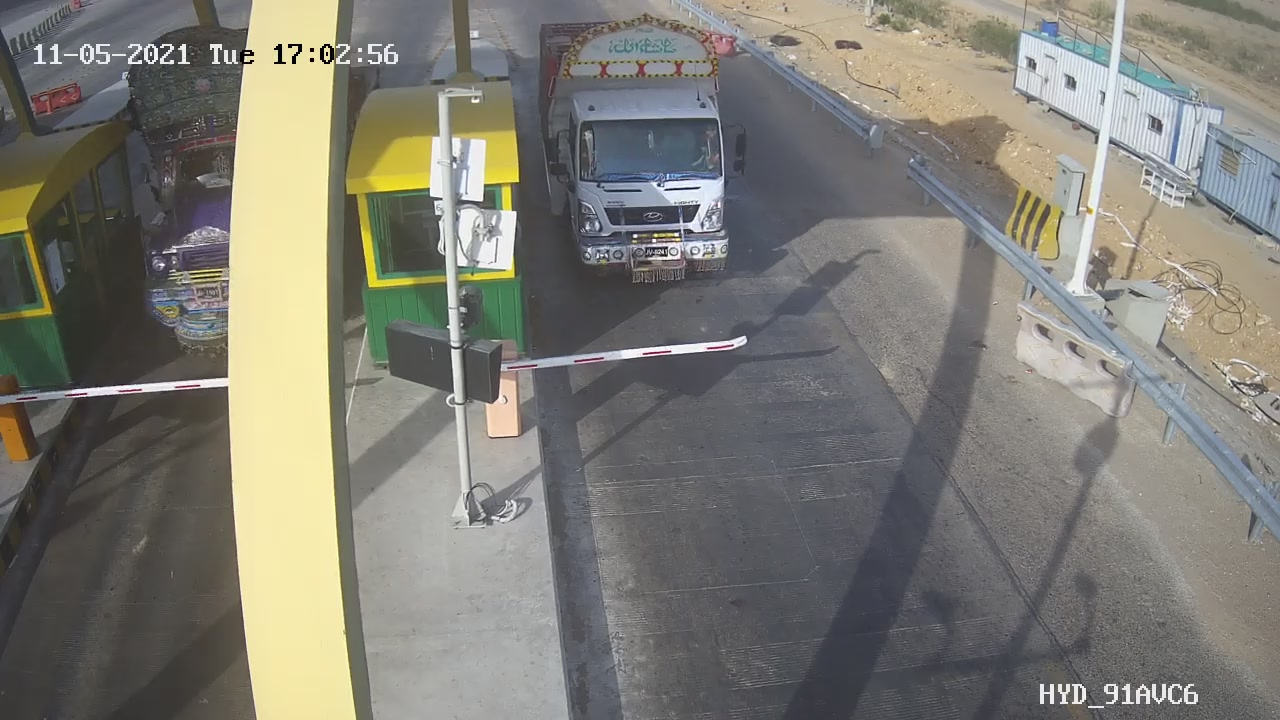F5: (520, 8, 774, 299)
